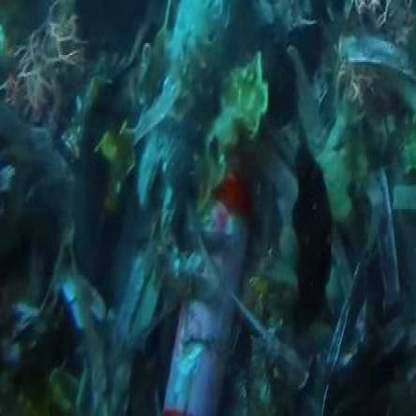pbottle: (191, 160, 249, 416)
